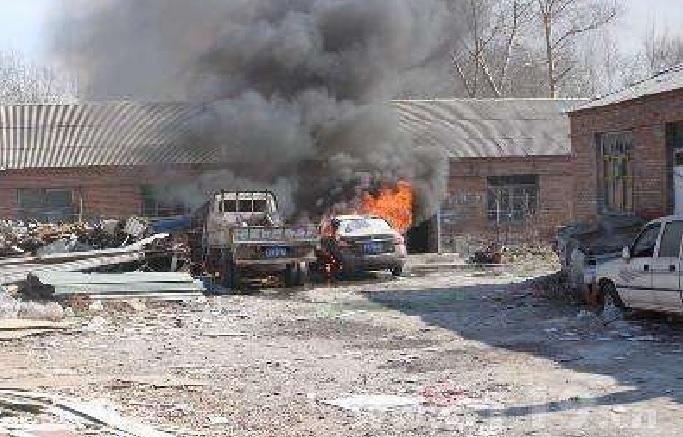fire: (360, 176, 416, 230)
